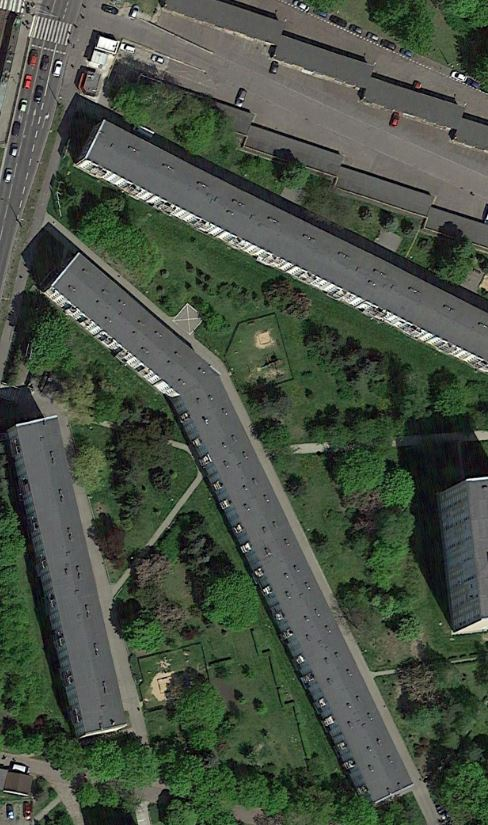block of flats: (42, 245, 425, 815), (71, 114, 488, 377), (7, 408, 157, 742), (426, 457, 488, 644)
garage: (118, 57, 259, 139), (320, 158, 442, 223), (266, 27, 379, 93), (239, 118, 347, 186), (159, 1, 291, 56), (361, 73, 469, 136), (420, 199, 488, 247), (449, 103, 488, 155)
